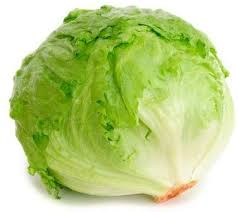Lettuce: (11, 5, 220, 195)
